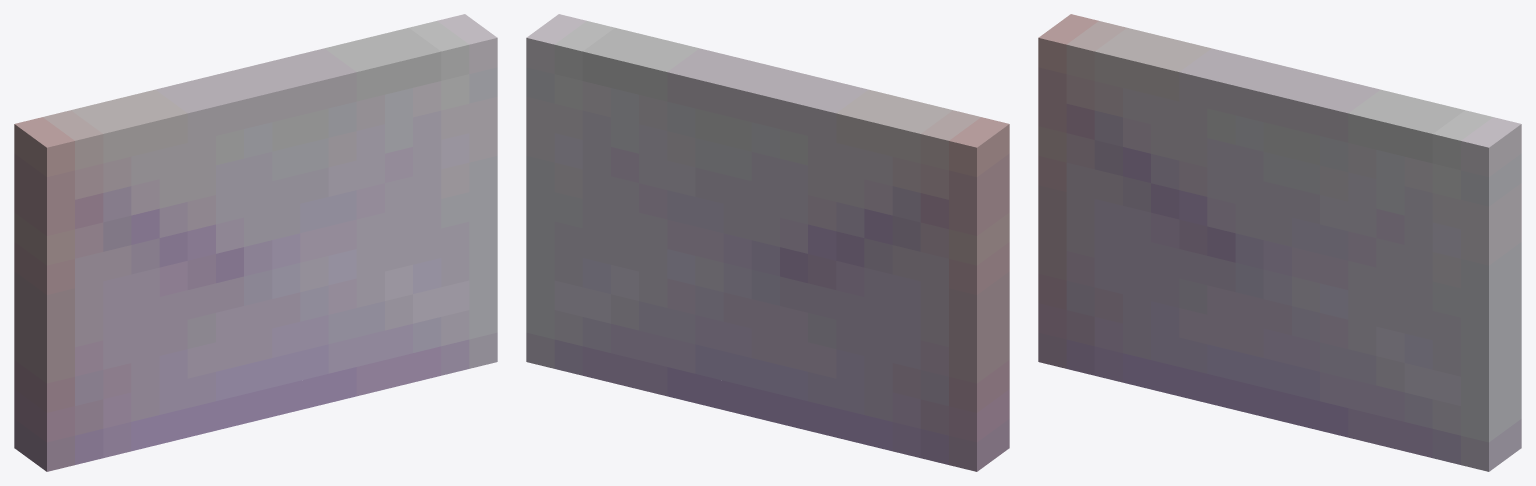
The model's file is envelope.glb.
3 renders of one model, left to right at view 1: azimuth 30°, elevation 25°; view 2: azimuth 150°, elevation 25°; view 3: azimuth 330°, elevation 25°, orthographic.
Visible parts, largest first — view 1: prop; view 2: prop; view 3: prop.
Part boxes in pixels (box(x1,y1,x2,y2)): prop: box(14, 14, 497, 471); prop: box(526, 14, 1009, 471); prop: box(1038, 14, 1521, 471).
Size of the model in its own units: 16 by 11 by 2.
